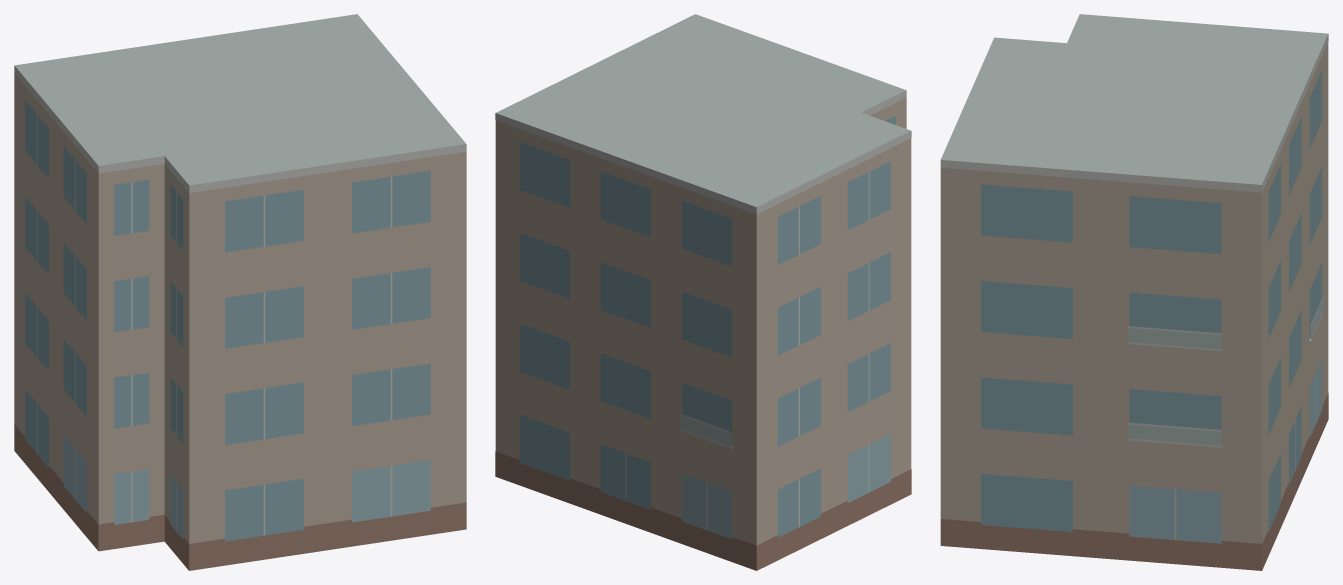
The model's file is residential-fcde4d18-1b36-4e09-bc77-c750ac37445d.glb.
3 renders of one model, left to right at view 1: azimuth 30°, elevation 25°; view 2: azimuth 150°, elevation 25°; view 3: azimuth 270°, elevation 25°, orthographic. The views are drawn at different scales.
Parts seen in each view (by area): view 1: residential-fcde4d18-1b36-4e09-bc77-c750ac37445d.tmp; view 2: residential-fcde4d18-1b36-4e09-bc77-c750ac37445d.tmp; view 3: residential-fcde4d18-1b36-4e09-bc77-c750ac37445d.tmp.
Boxes of the visible parts, x1,y1,x2,y2 form: residential-fcde4d18-1b36-4e09-bc77-c750ac37445d.tmp: (14,14,466,570); residential-fcde4d18-1b36-4e09-bc77-c750ac37445d.tmp: (495,14,911,570); residential-fcde4d18-1b36-4e09-bc77-c750ac37445d.tmp: (940,14,1328,570).
Bounding box in the file's own units: 11.6 × 12.2 × 11.12.
